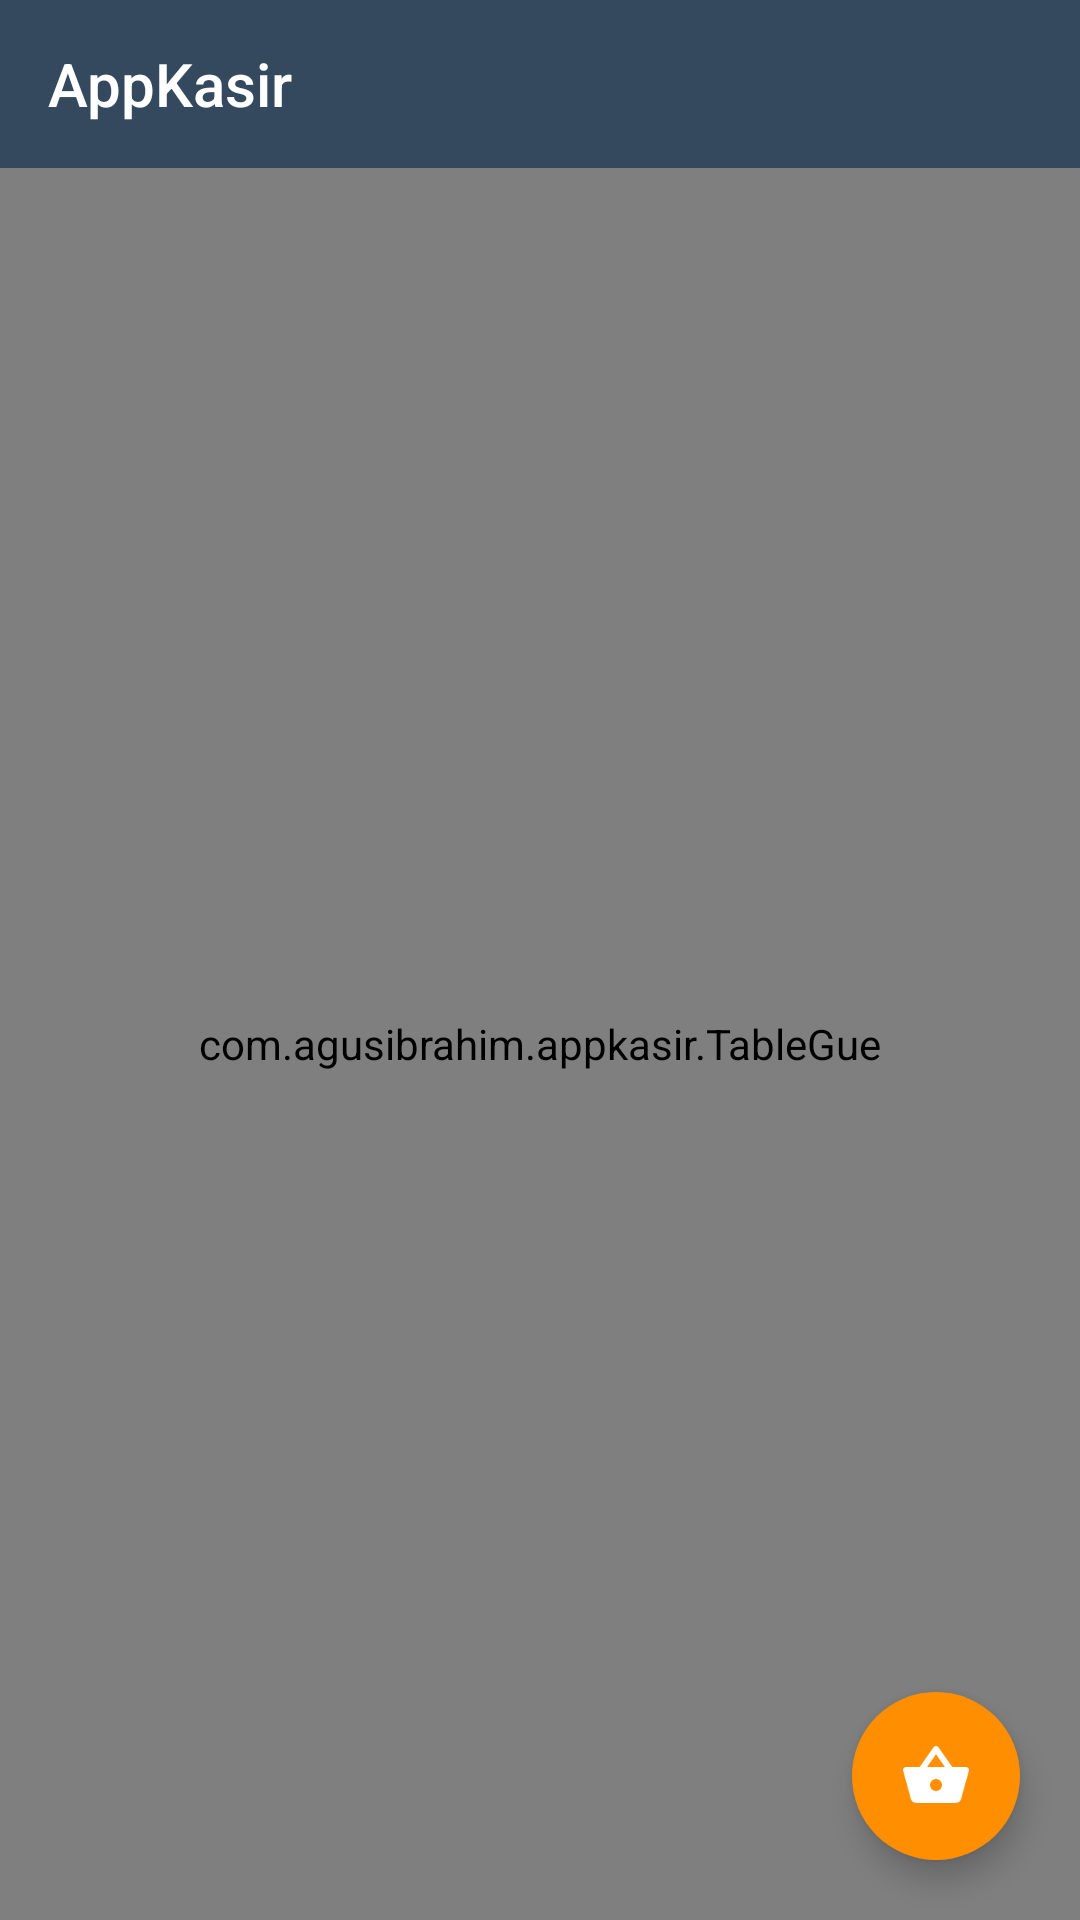

Locate icon controls on the screen. Image size 1080px×1920px, boxes as (x1, y1, x2, y2).
basket: (852, 1692, 1020, 1860)
